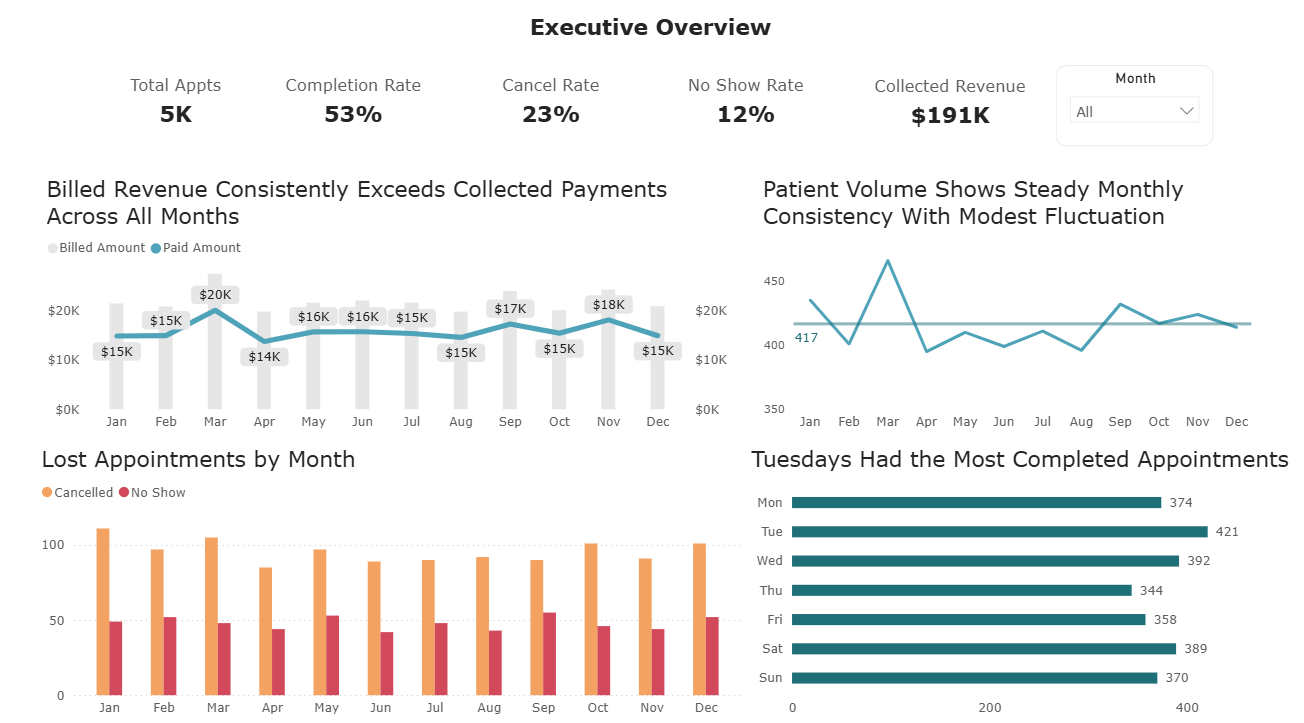

What the dashboard file says about the page in this screenshot:
{"tool":"powerbi","page":{"name":"exec-overview","canvas":[1280,720],"ordinal":0},"visuals":[{"type":"group","id":"g1","title":"Group 1","box":[107.1,68.8,1069,102.4],"z":0},{"type":"lineChart","title":"Patient Volume Shows Steady Monthly Consistency With Modest Fluctuation","fields":{"Y":["appointments.Total Appointments"],"Category":["appointments.Month"]},"box":[772.9,171.5,465.7,494.3],"z":0,"group":"g2"},{"type":"textbox","box":[466.7,13.3,348,56],"z":1000},{"type":"group","id":"g2","title":"Group 2","box":[40.9,170.9,1197.7,494.9],"z":2000},{"type":"lineStackedColumnComboChart","title":"Billed Revenue Consistently Exceeds Collected Payments Across All Months","fields":{"Y":["Sum(claims.billed_amount)"],"Y2":["Sum(claims.paid_amount)"],"Category":["appointments.Month"]},"box":[40.9,170.9,686.7,494.7],"z":2000,"group":"g2"},{"type":"cardVisual","fields":{"Data":["appointments.Total Appointments"]},"box":[107.1,68.8,225.7,101.4],"z":3000,"group":"g1"},{"type":"cardVisual","fields":{"Data":["appointments.Cancelled %"]},"box":[542.2,69.5,228.5,101.7],"z":4000,"group":"g1"},{"type":"cardVisual","fields":{"Data":["appointments.No Show Rate %"]},"box":[759.5,69.5,199.2,101.7],"z":5000,"group":"g1"},{"type":"cardVisual","fields":{"Data":["appointments.Completed %"]},"box":[317.9,69.5,235.4,101.7],"z":6000,"group":"g1"},{"type":"cardVisual","fields":{"Data":["appointments.Collected Revenue"]},"box":[949,69.5,227.1,101.7],"z":7000,"group":"g1"}]}

Visuals, with their boxes in screenshot pixels (x1, y1, x2, y2), scaled from the page's 1280x720 canvas onto the 1304x723 screenshot:
"Group 1" group: detection(109, 69, 1198, 172)
"Patient Volume Shows Steady Monthly Consistency With Modest Fluctuation" lineChart: detection(787, 172, 1262, 669)
textbox: detection(475, 13, 830, 70)
"Group 2" group: detection(42, 172, 1262, 669)
"Billed Revenue Consistently Exceeds Collected Payments Across All Months" lineStackedColumnComboChart: detection(42, 172, 741, 668)
cardVisual - appointments.Total Appointments: detection(109, 69, 339, 171)
cardVisual - appointments.Cancelled %: detection(552, 70, 785, 172)
cardVisual - appointments.No Show Rate %: detection(774, 70, 977, 172)
cardVisual - appointments.Completed %: detection(324, 70, 564, 172)
cardVisual - appointments.Collected Revenue: detection(967, 70, 1198, 172)
